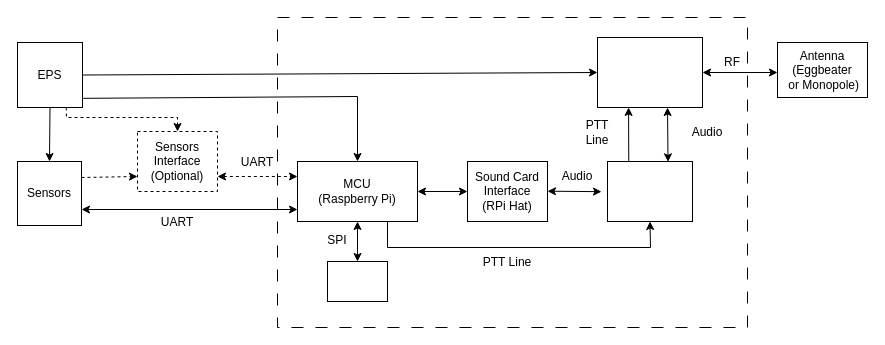
Image size: 885x345. Some labels were removed from this diagram. The centre of each missing label's shape, as x and y in pixels:
"Flash Memory" belongs at pixel 357 281.
"Octocoupler (EasyDigi)" belongs at pixel 649 191.
"Transceiver (Yaesu FTM-100 or FTM 300)" belongs at pixel 649 72.
